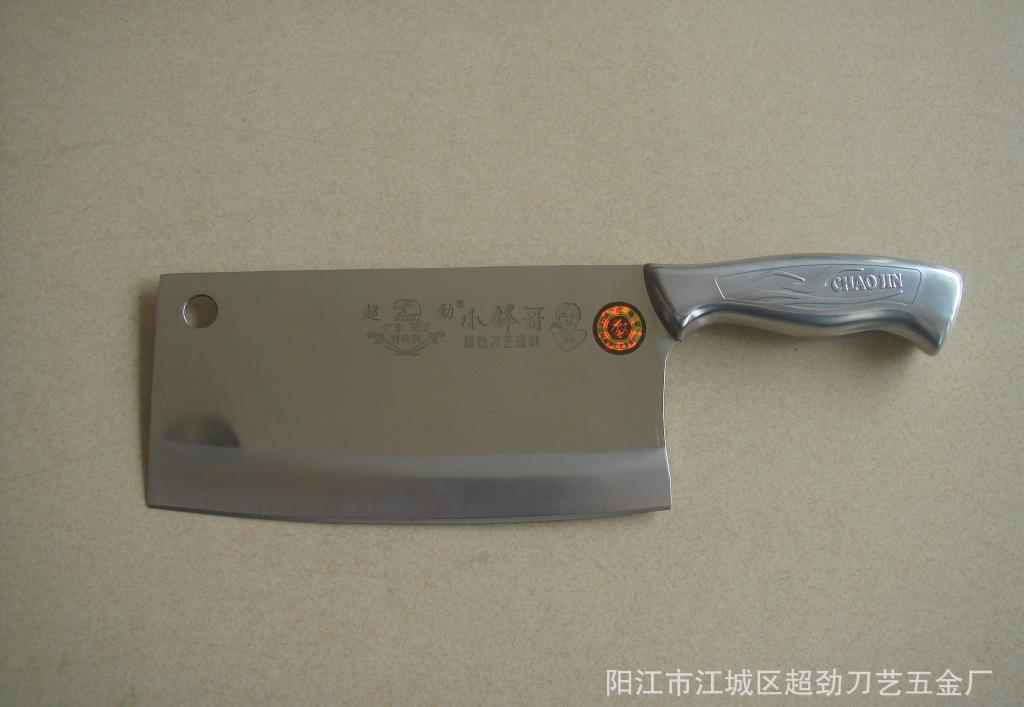knief: (127, 221, 968, 535)
